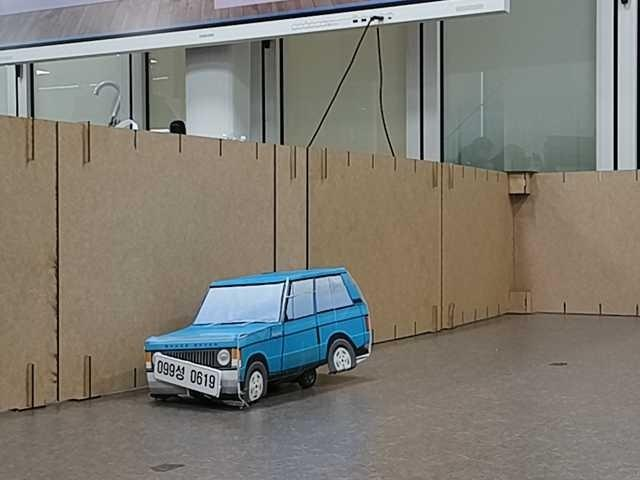car: (146, 266, 371, 404)
id: (152, 353, 221, 399)
